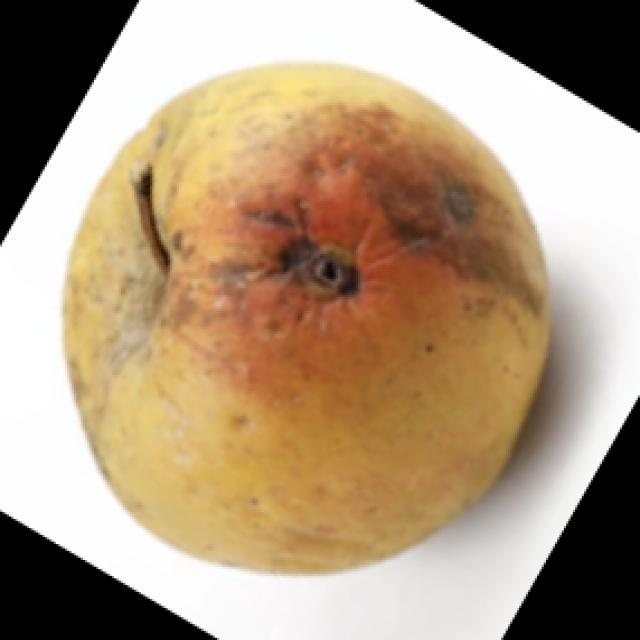Rotten: (82, 81, 548, 556)
